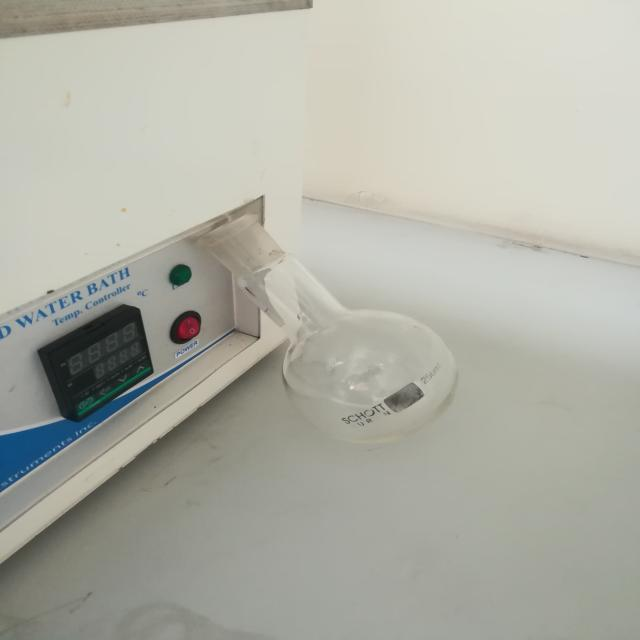Round_Bottom_Flask_Borosilicate_Glass_1_Neck: (138, 195, 518, 479)
